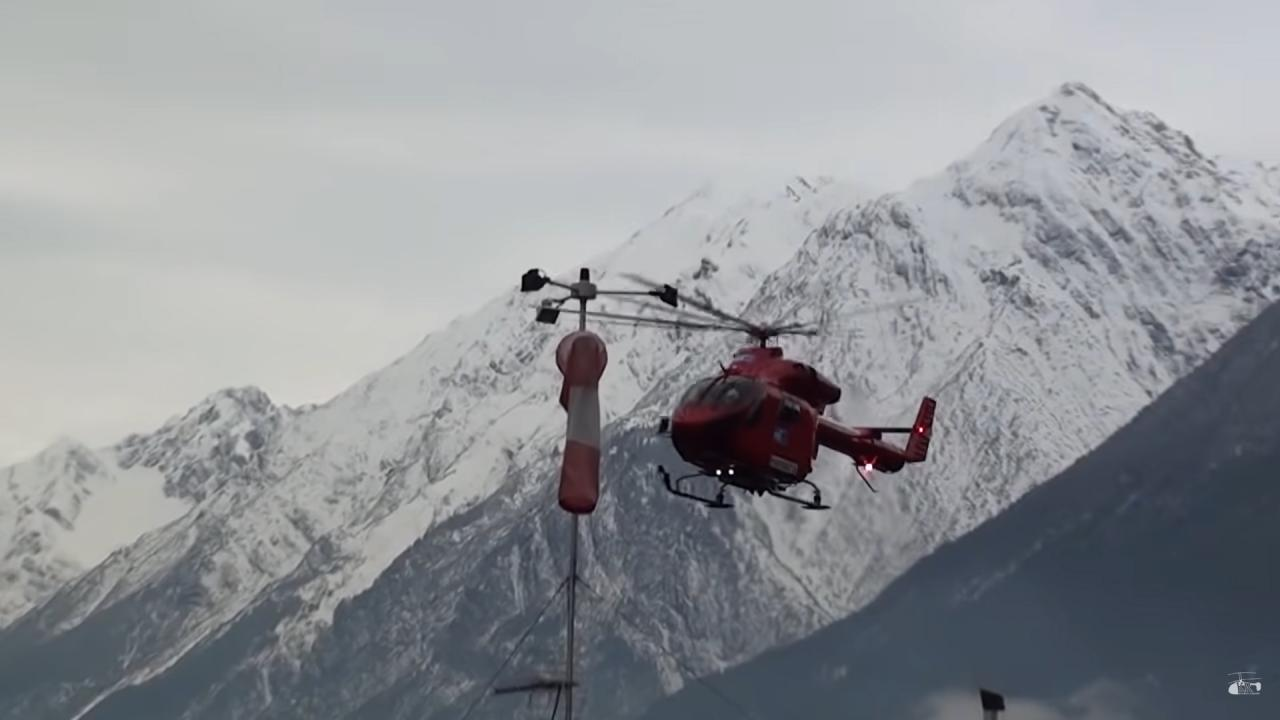Helicopter: (525, 259, 995, 528)
